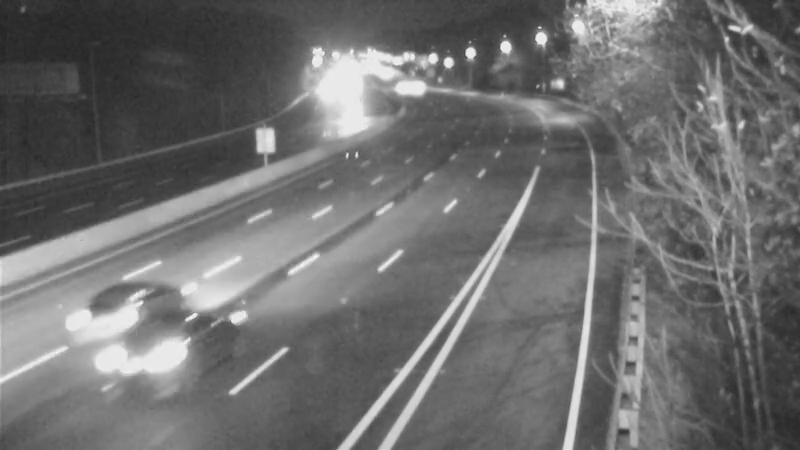vehicle: (88, 296, 198, 406), (44, 254, 154, 364), (312, 106, 362, 156)
